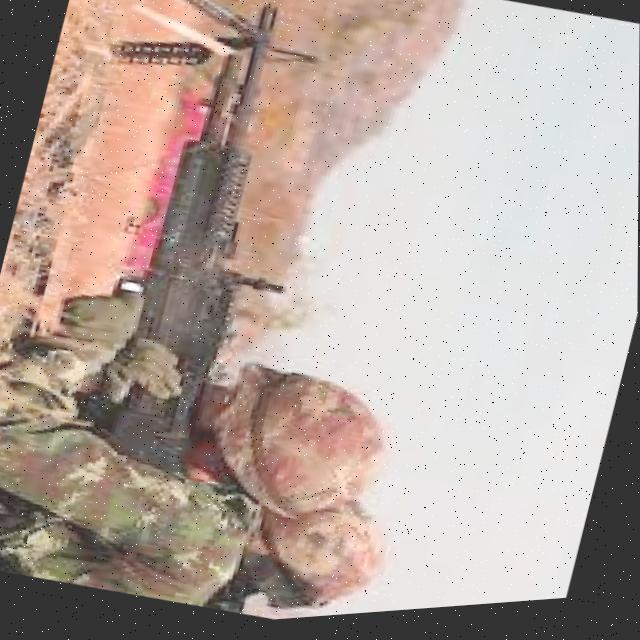firearm: (0, 0, 365, 504)
